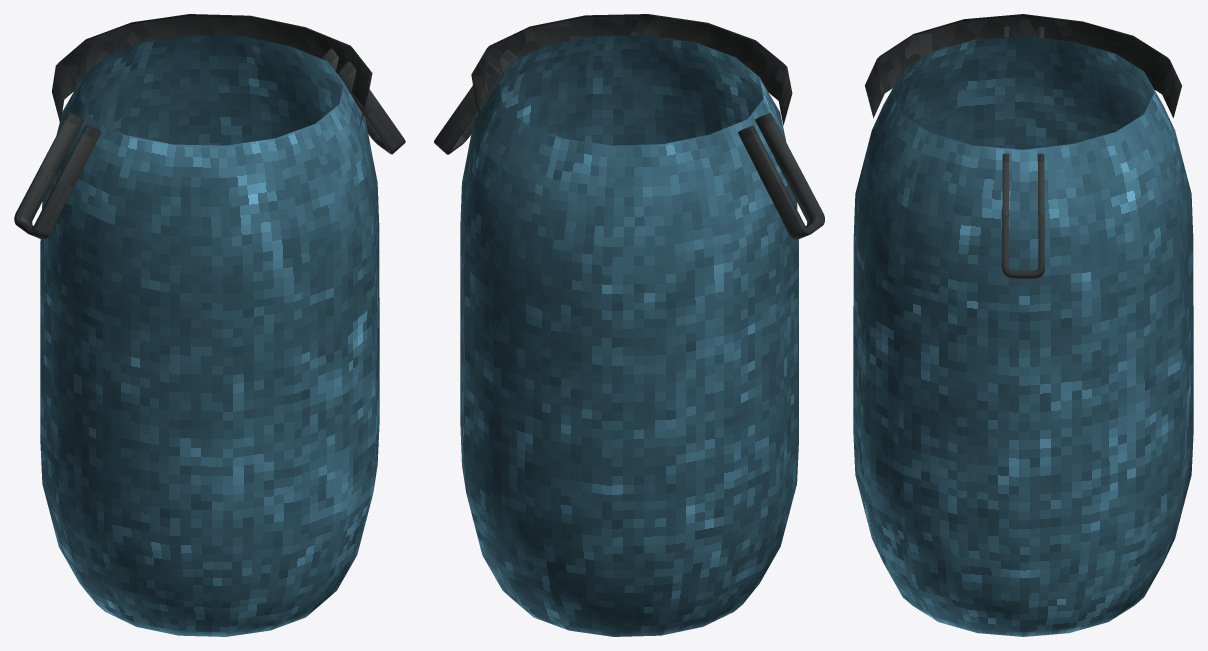
File: plasticBarrel.glb
3 views of the same model, side by side, from view 1: azimuth 30°, elevation 25°; view 2: azimuth 150°, elevation 25°; view 3: azimuth 270°, elevation 25° (orthographic).
Visible parts, largest first — view 1: Plane; view 2: Plane; view 3: Plane.
Boxes of the visible parts, x1=… form: Plane: x1=14, y1=14, x2=405, y2=636; Plane: x1=434, y1=14, x2=824, y2=636; Plane: x1=853, y1=14, x2=1193, y2=636.
Size of the model in its own units: 1.01 by 1.3 by 0.7944.
Materials: 2 (2 with a texture image).
